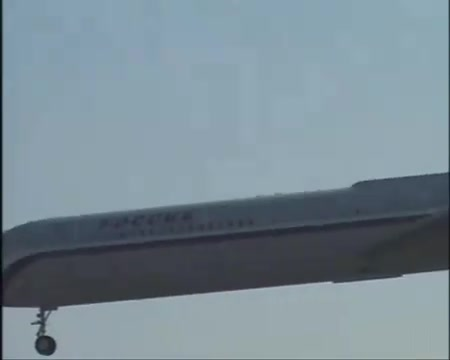aeroplane: (3, 173, 450, 356)
